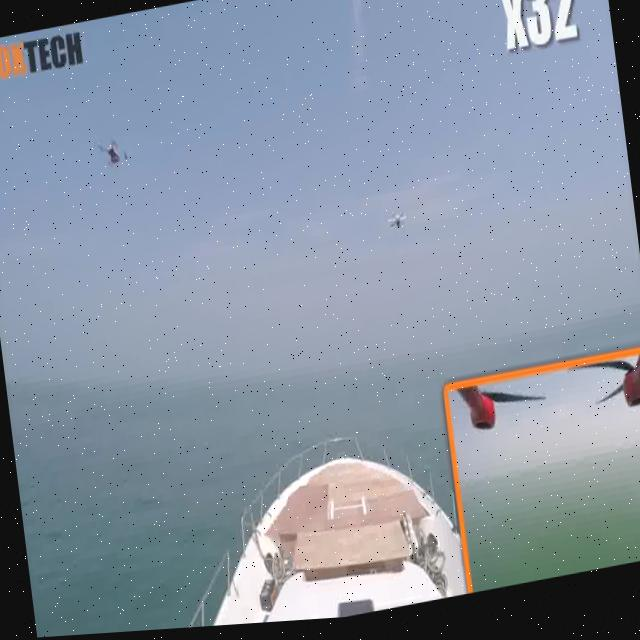drone: (84, 125, 139, 189), (376, 198, 409, 243)
